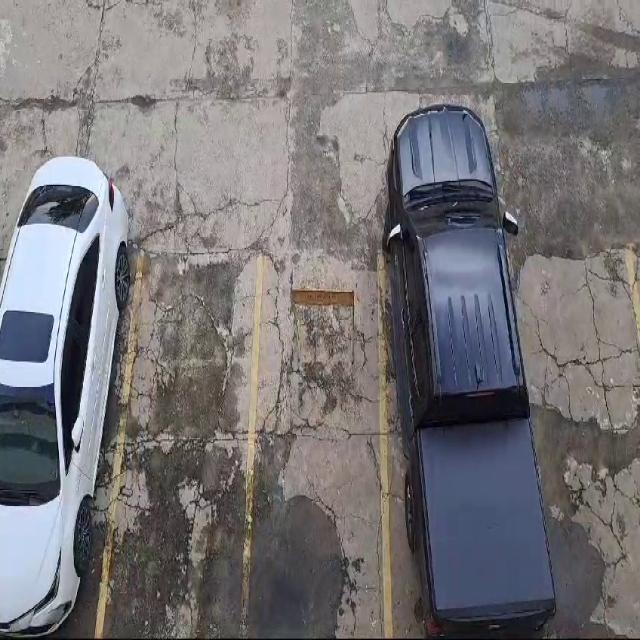empty: (97, 254, 259, 636), (244, 254, 387, 632), (510, 252, 639, 636)
notEmpty: (0, 230, 142, 637), (383, 249, 529, 637)
